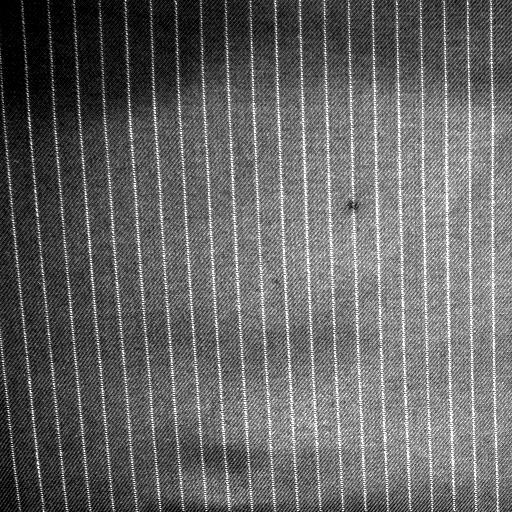fabric_hole: (342, 190, 366, 230)
